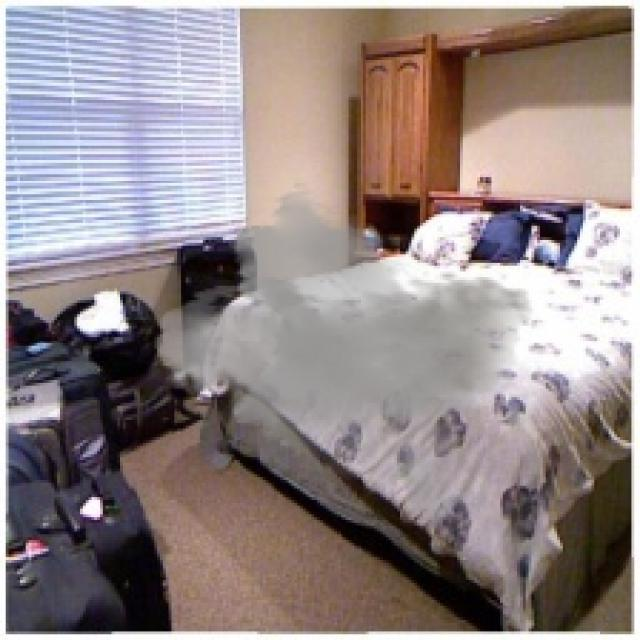Smoke: (155, 180, 534, 534)
